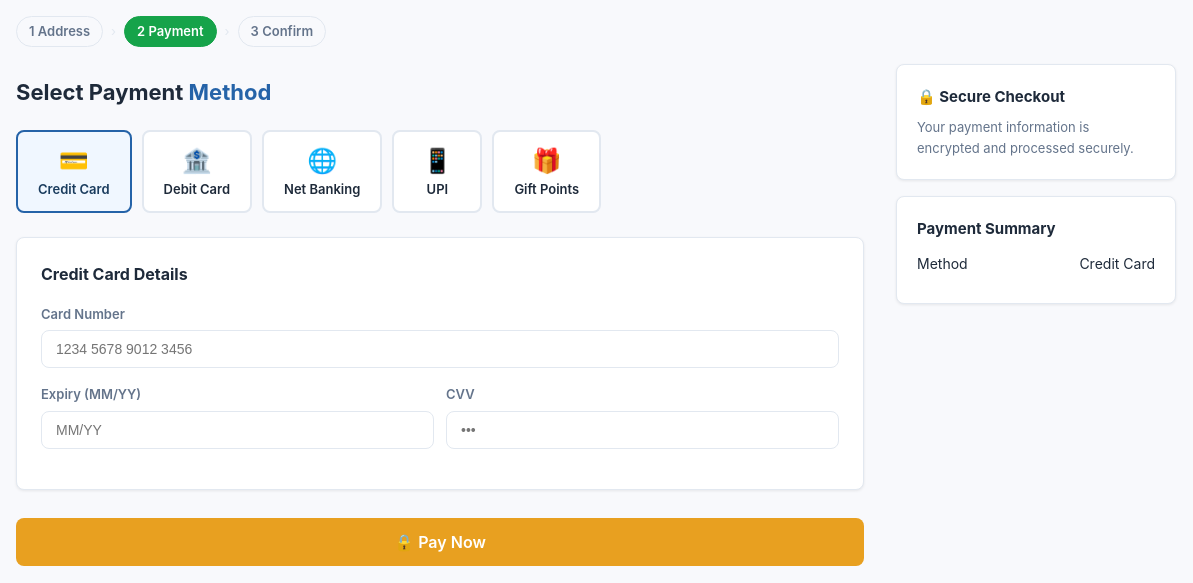
PaymentPage › shows an error when payment fails after the order was placed
Click the button "🌐 Net Banking": {"x": 322, "y": 172} 262,130 -> 382,213
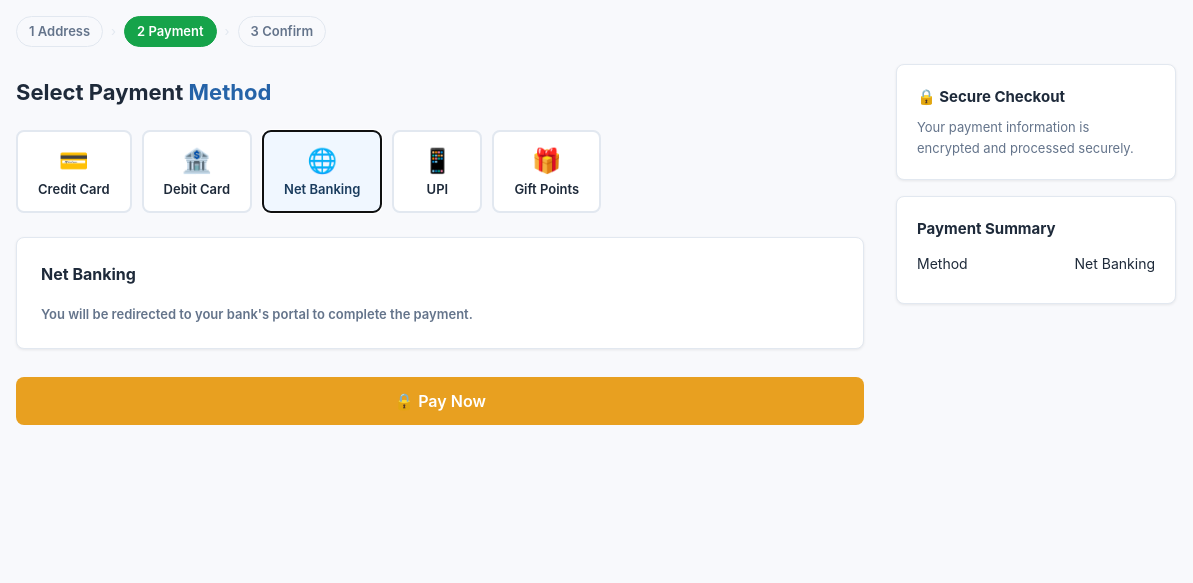
Click the button "🔒 Pay Now": {"x": 440, "y": 401} 16,377 -> 864,425
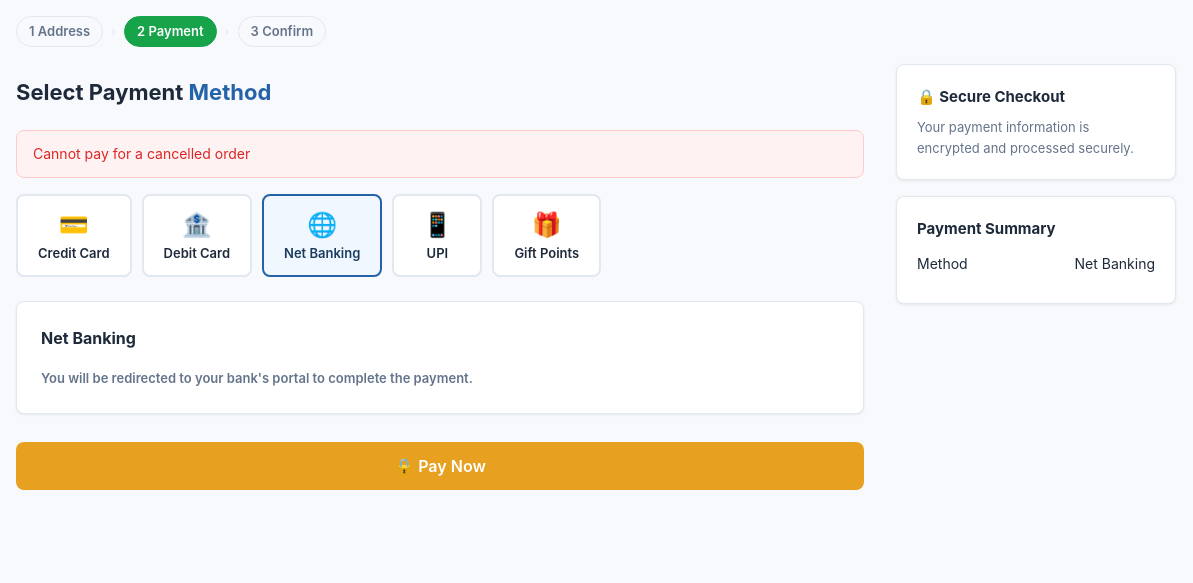
expect the text "Cannot pay for a cancelled order" is shown: met, box 16,130 -> 864,178
